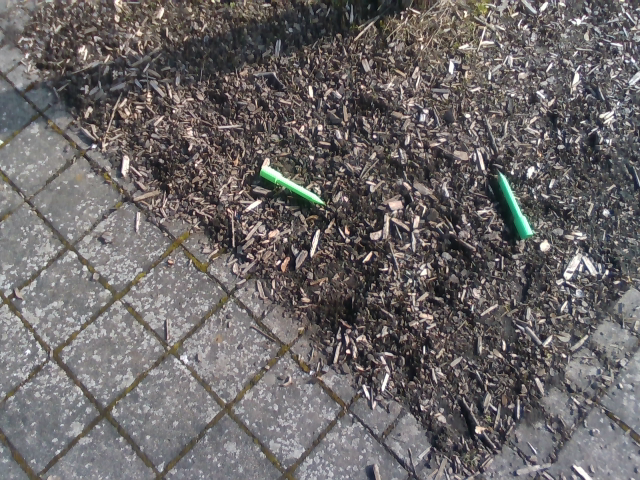Probe: (489, 158, 539, 251), (255, 155, 333, 212)
